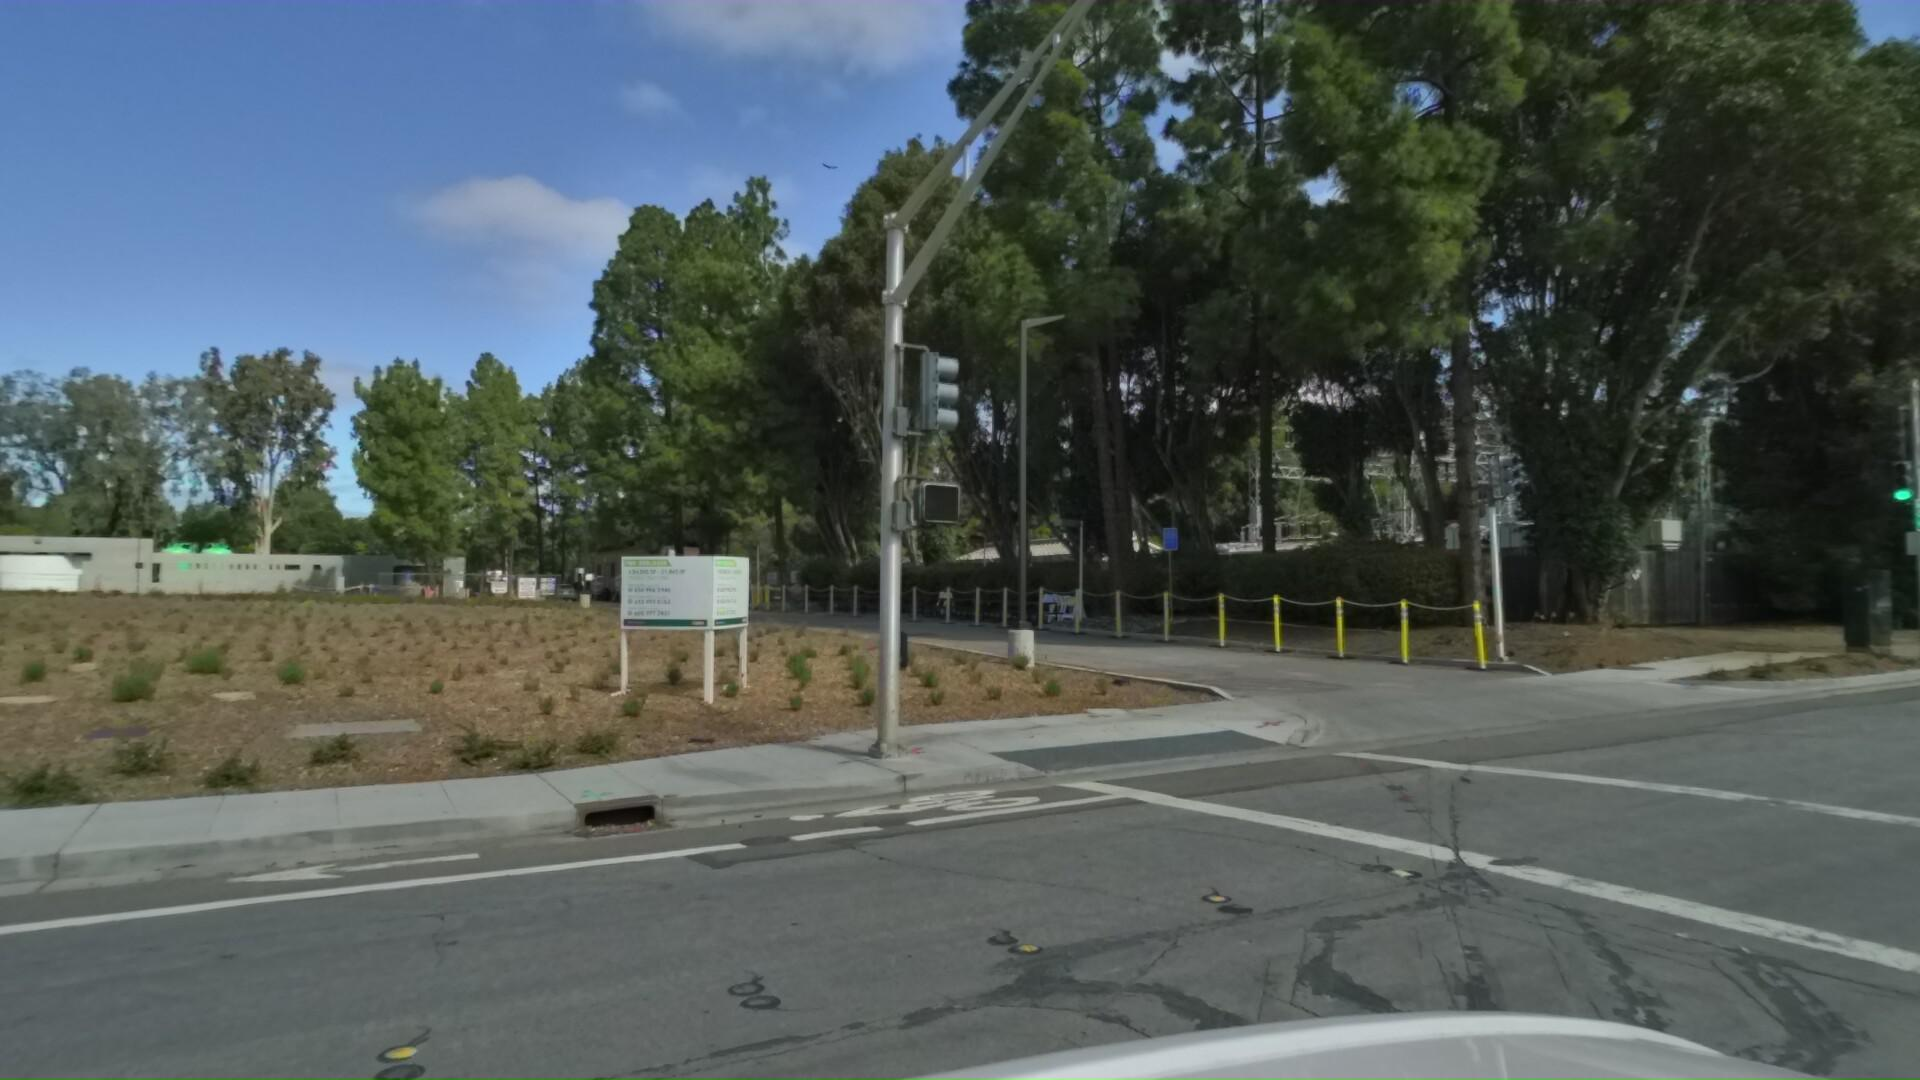car: (535, 580, 578, 603)
